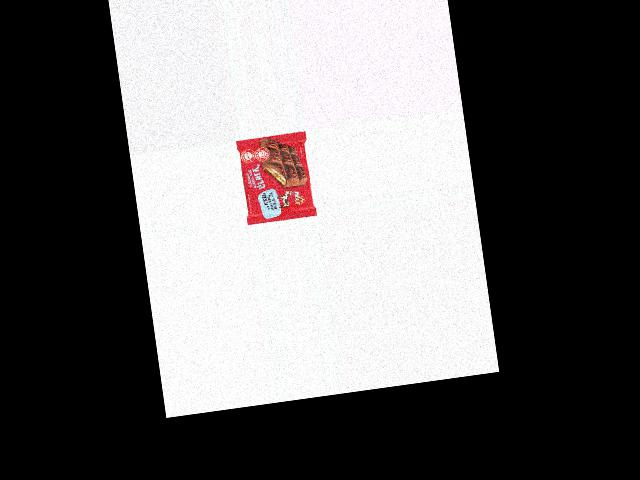chocolate: (235, 132, 315, 222)
